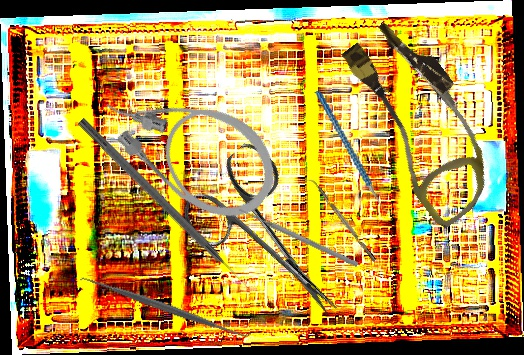Cannula: (321, 10, 521, 232), (87, 52, 294, 238)
Chopper: (314, 81, 397, 225), (304, 174, 377, 265)
Hook Surgical: (76, 116, 253, 294)
Iris Scissors: (171, 137, 375, 346)
Pusher: (237, 205, 360, 269)
Spatula Surgical: (77, 266, 254, 348)
